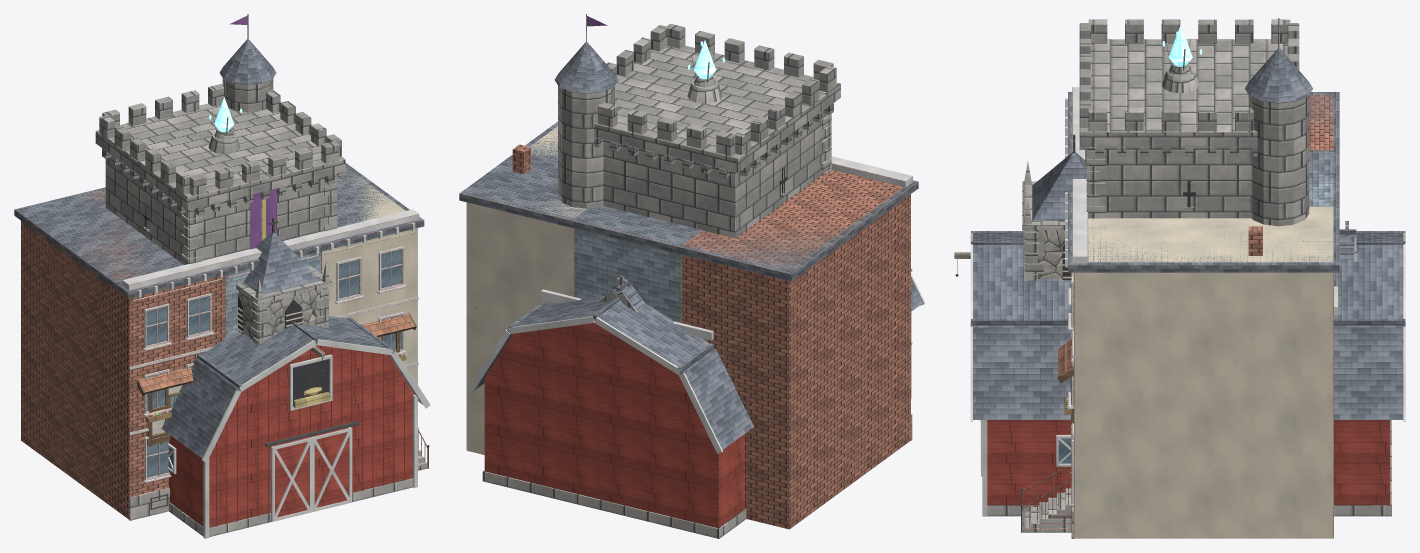
The model's file is streetkit.glb.
3 views of the same model, side by side, from view 1: azimuth 30°, elevation 25°; view 2: azimuth 150°, elevation 25°; view 3: azimuth 270°, elevation 25° (orthographic). The views are drawn at different scales.
Visible parts, largest first — view 1: Kit_townhouses, Kit_barn, Kit_keep, Kit_chapel, Kit_tavern; view 2: Kit_townhouses, Kit_barn, Kit_keep, Kit_chapel, Kit_cafe; view 3: Kit_townhouses, Kit_keep, Kit_barn, Kit_chapel, Kit_tavern.
Part boxes in pixels (box(x1,y1,x2,y2)): Kit_townhouses: box(14, 163, 429, 520); Kit_barn: box(161, 316, 430, 538); Kit_keep: box(95, 14, 345, 264); Kit_chapel: box(236, 217, 332, 345); Kit_tavern: box(137, 312, 416, 446); Kit_townhouses: box(459, 121, 918, 529); Kit_barn: box(467, 274, 925, 538); Kit_keep: box(554, 14, 840, 237); Kit_chapel: box(598, 276, 645, 312); Kit_cafe: box(540, 289, 713, 340); Kit_townhouses: box(1020, 87, 1339, 538); Kit_keep: box(1079, 18, 1312, 226); Kit_barn: box(954, 231, 1405, 516); Kit_chapel: box(1022, 134, 1356, 280); Kit_tavern: box(1057, 339, 1334, 443).
Size of the model in its own units: 14.2 by 18 by 15.63.
Materials: 127 (127 with a texture image).
